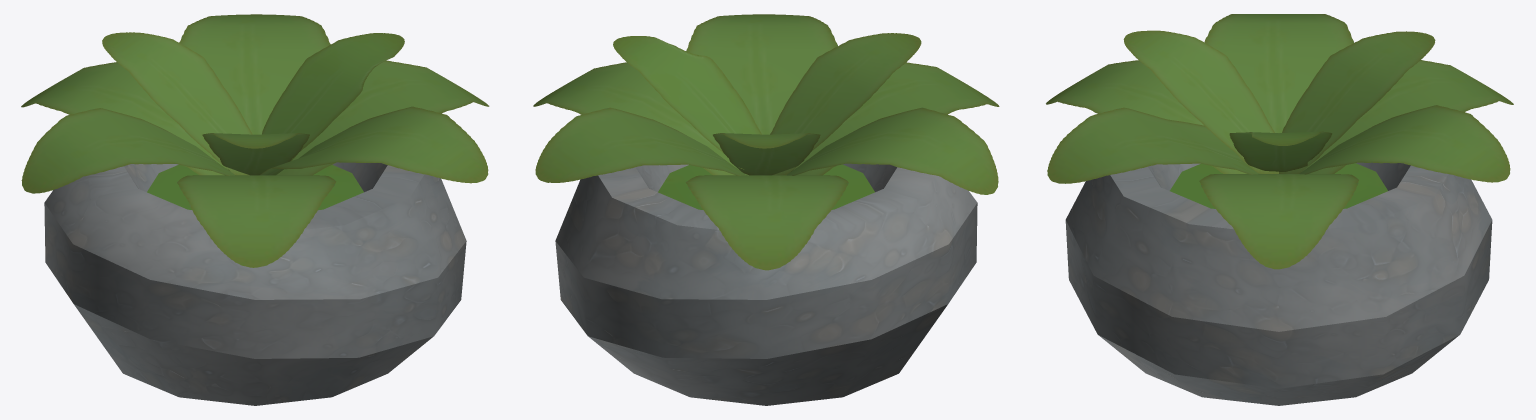
Rendered from flower_pot_big_2.glb.
3 views of the same model, side by side, from view 1: azimuth 30°, elevation 25°; view 2: azimuth 150°, elevation 25°; view 3: azimuth 270°, elevation 25° (orthographic).
Parts seen in each view (by area): view 1: plant_pot_2; view 2: plant_pot_2; view 3: plant_pot_2.
Part boxes in pixels (bbox=[...]): plant_pot_2: bbox=[21, 14, 489, 405]; plant_pot_2: bbox=[533, 14, 999, 405]; plant_pot_2: bbox=[1046, 14, 1513, 405].
Size of what is drawn, in the model's own units: 1.72 by 0.9381 by 1.53.
2 materials, 2 textured.
